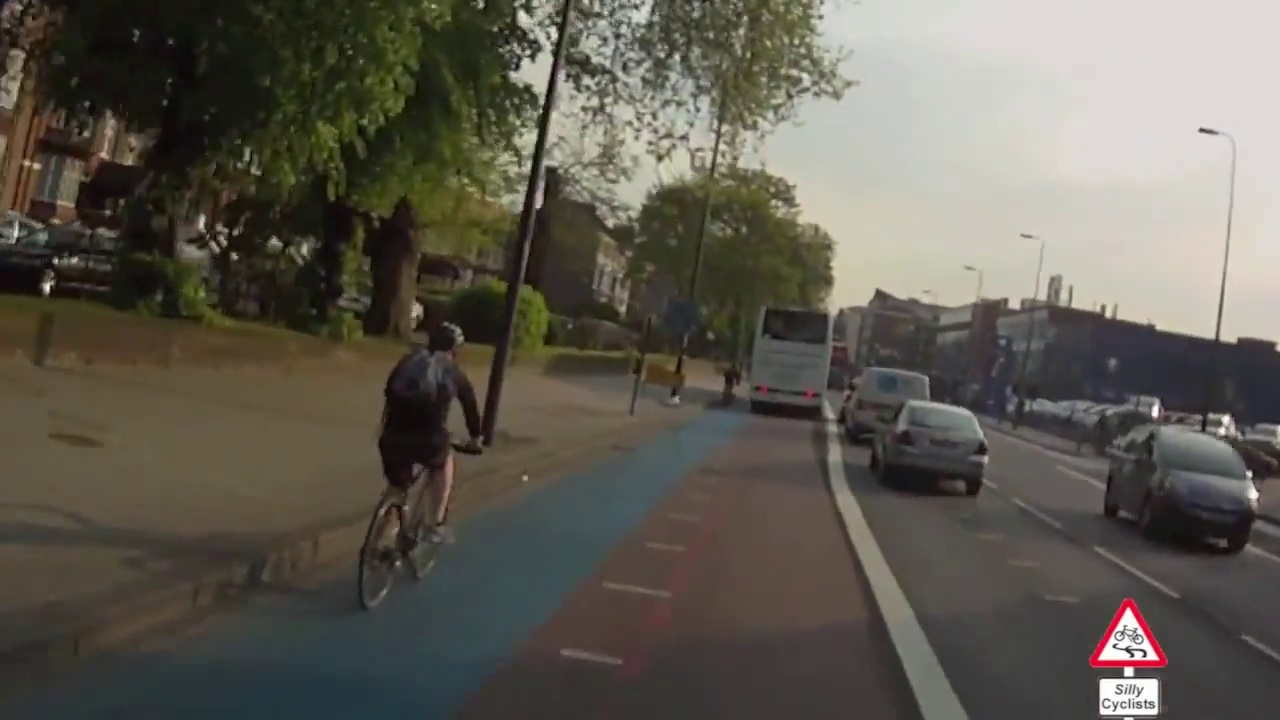cyclist_back: (360, 319, 482, 611)
